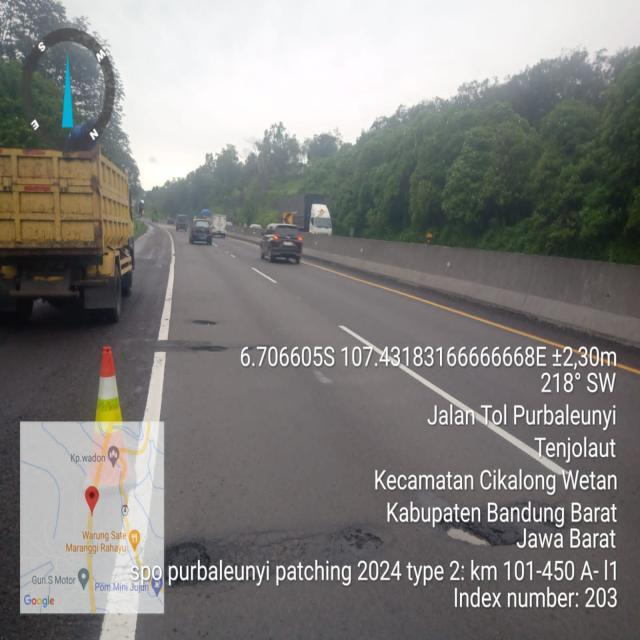Buraco: (435, 514, 524, 550), (162, 539, 214, 591), (339, 526, 386, 554), (185, 344, 231, 354), (189, 318, 219, 327)
